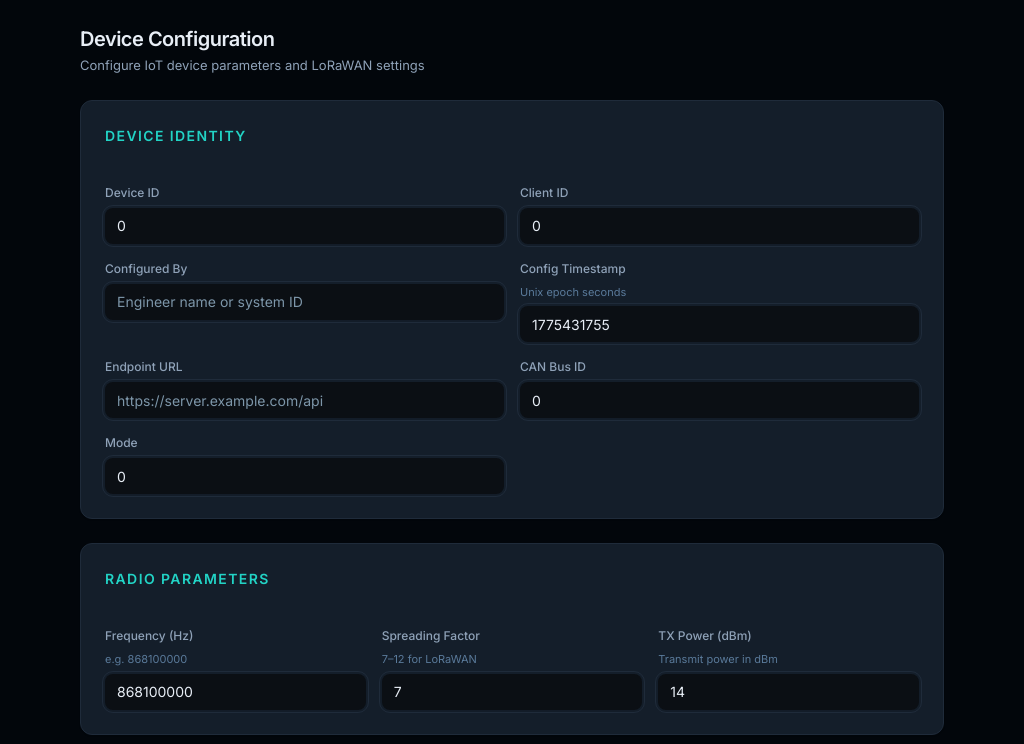
Test: DeviceConfigPage › shows success message after save
The image size is (1024, 744).
Type "Alice" into the field labelled "Configured By".
click(304, 302); type("Alice")  # box 105,284 -> 504,320
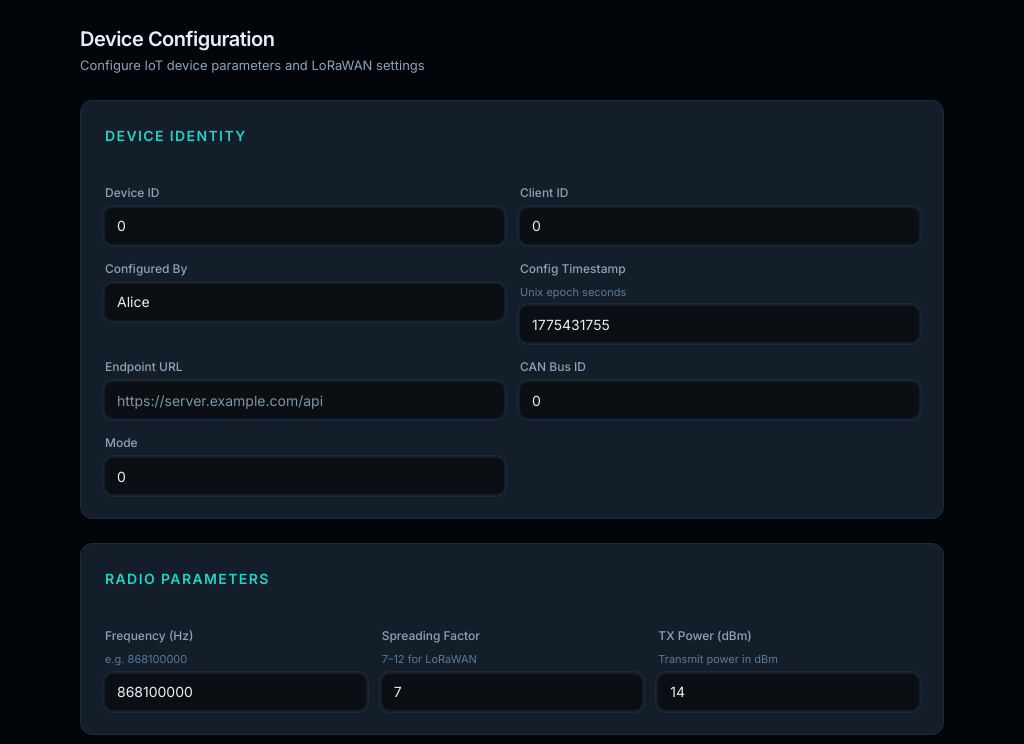
Type "https://api.example.com" into the field labelled "Endpoint URL".
click(304, 400); type("https://api.example.com")  # box 105,382 -> 504,418
(page scrolled)
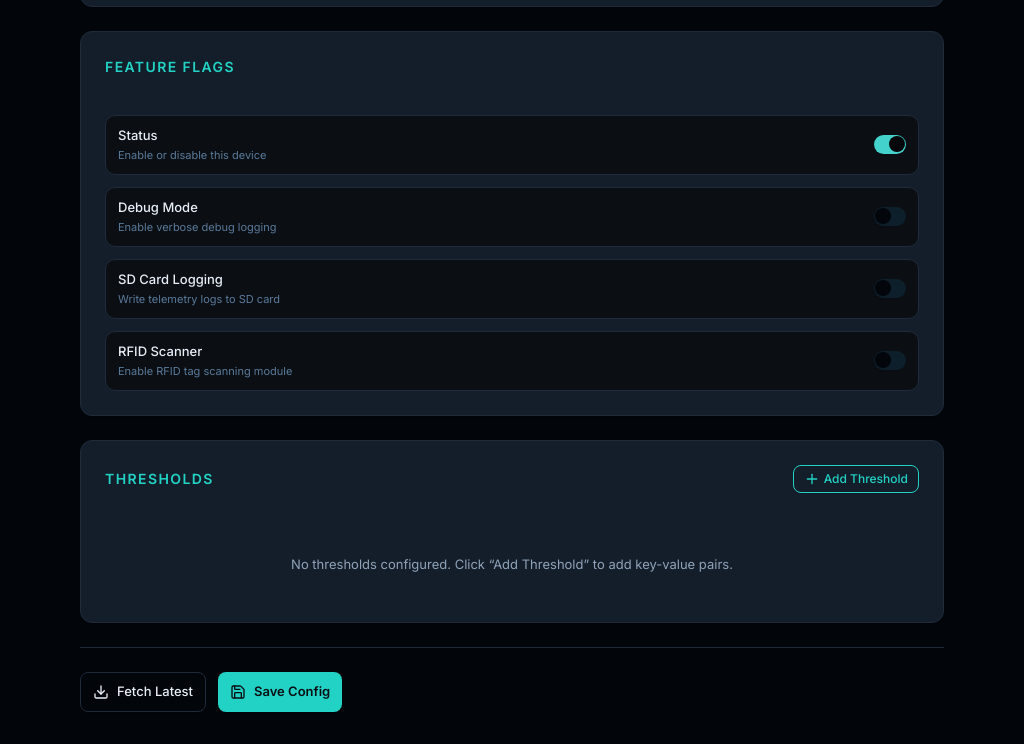
Click the button "Save Config".
click(280, 692)  # box 218,672 -> 342,712
(page scrolled)
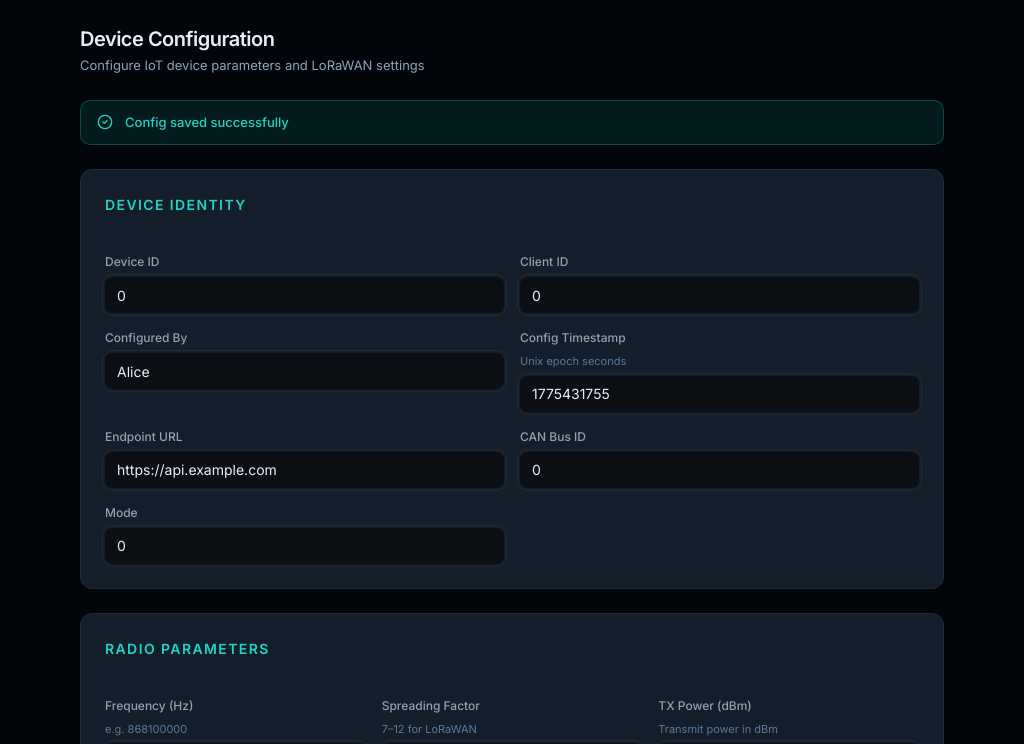
Result: the text "Config saved successfully" is shown at 125,112 -> 289,132
